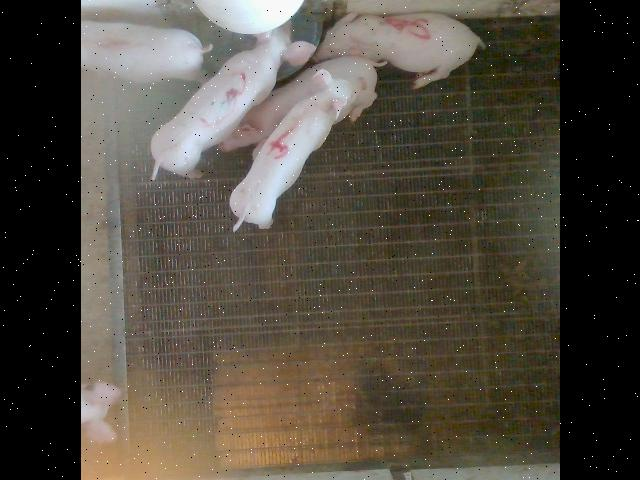pig-1: (82, 21, 210, 84)
pig-3: (147, 24, 315, 176)
pig-4: (229, 69, 366, 230)
pig-5: (314, 12, 482, 89)
